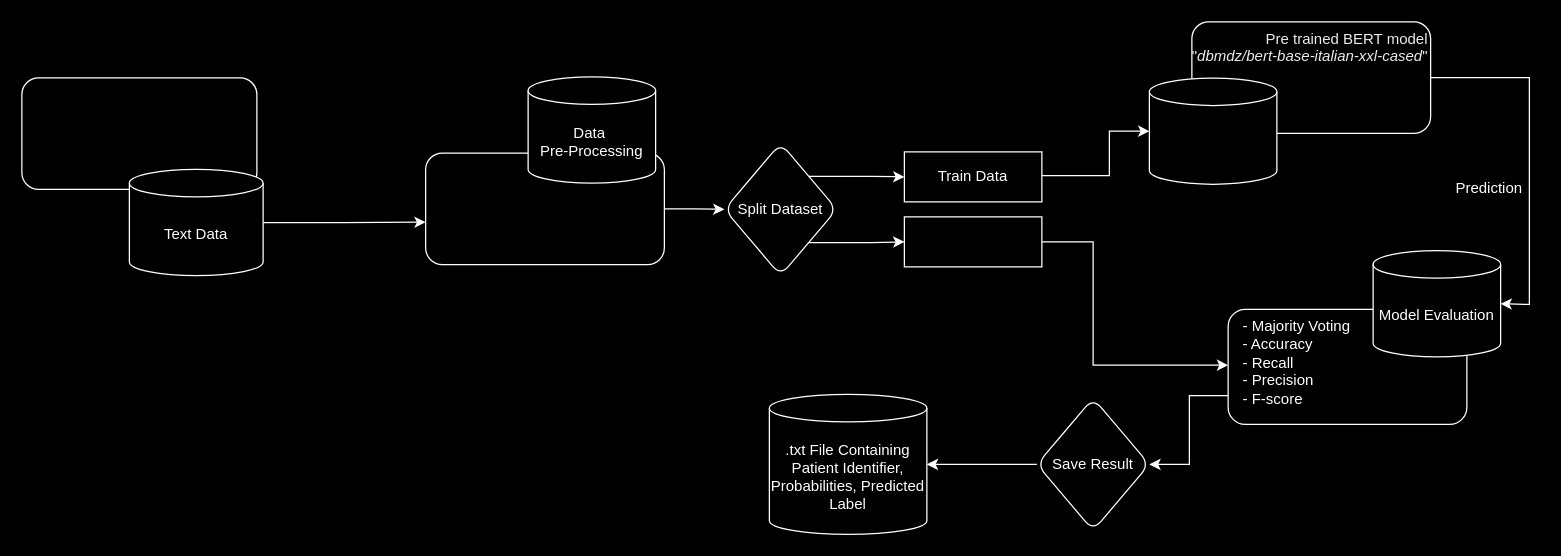
This 1561x556 diagram has some shape labels left out. Here are the shapes that lost their labels. From the top down, the centre of each, then its label:
point (139, 133): - . txt files
point (1212, 130): Model Deployment
point (544, 208): - Sentence Grouping - Tokenisation and Encoding
point (972, 241): Test Data
